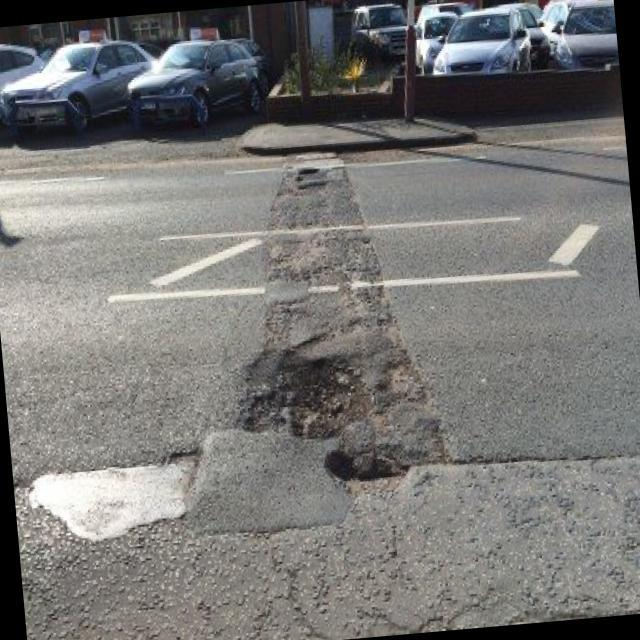Pothole: (243, 136, 460, 522)
